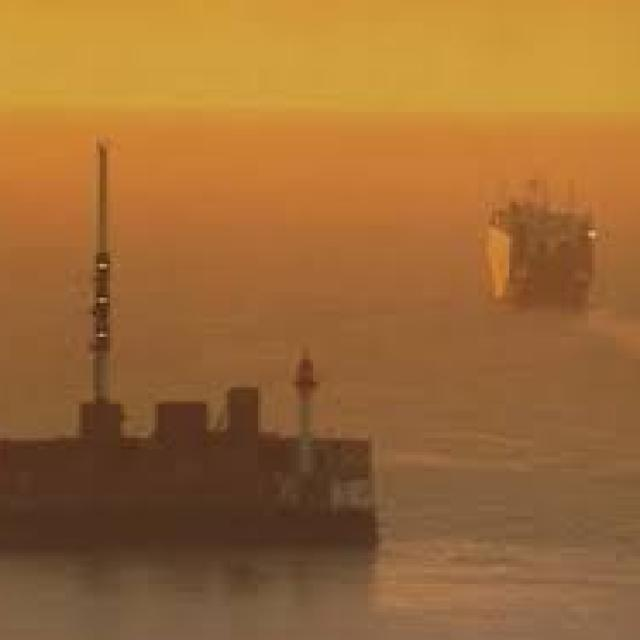cargoship: (0, 295, 403, 539), (488, 170, 610, 304)
